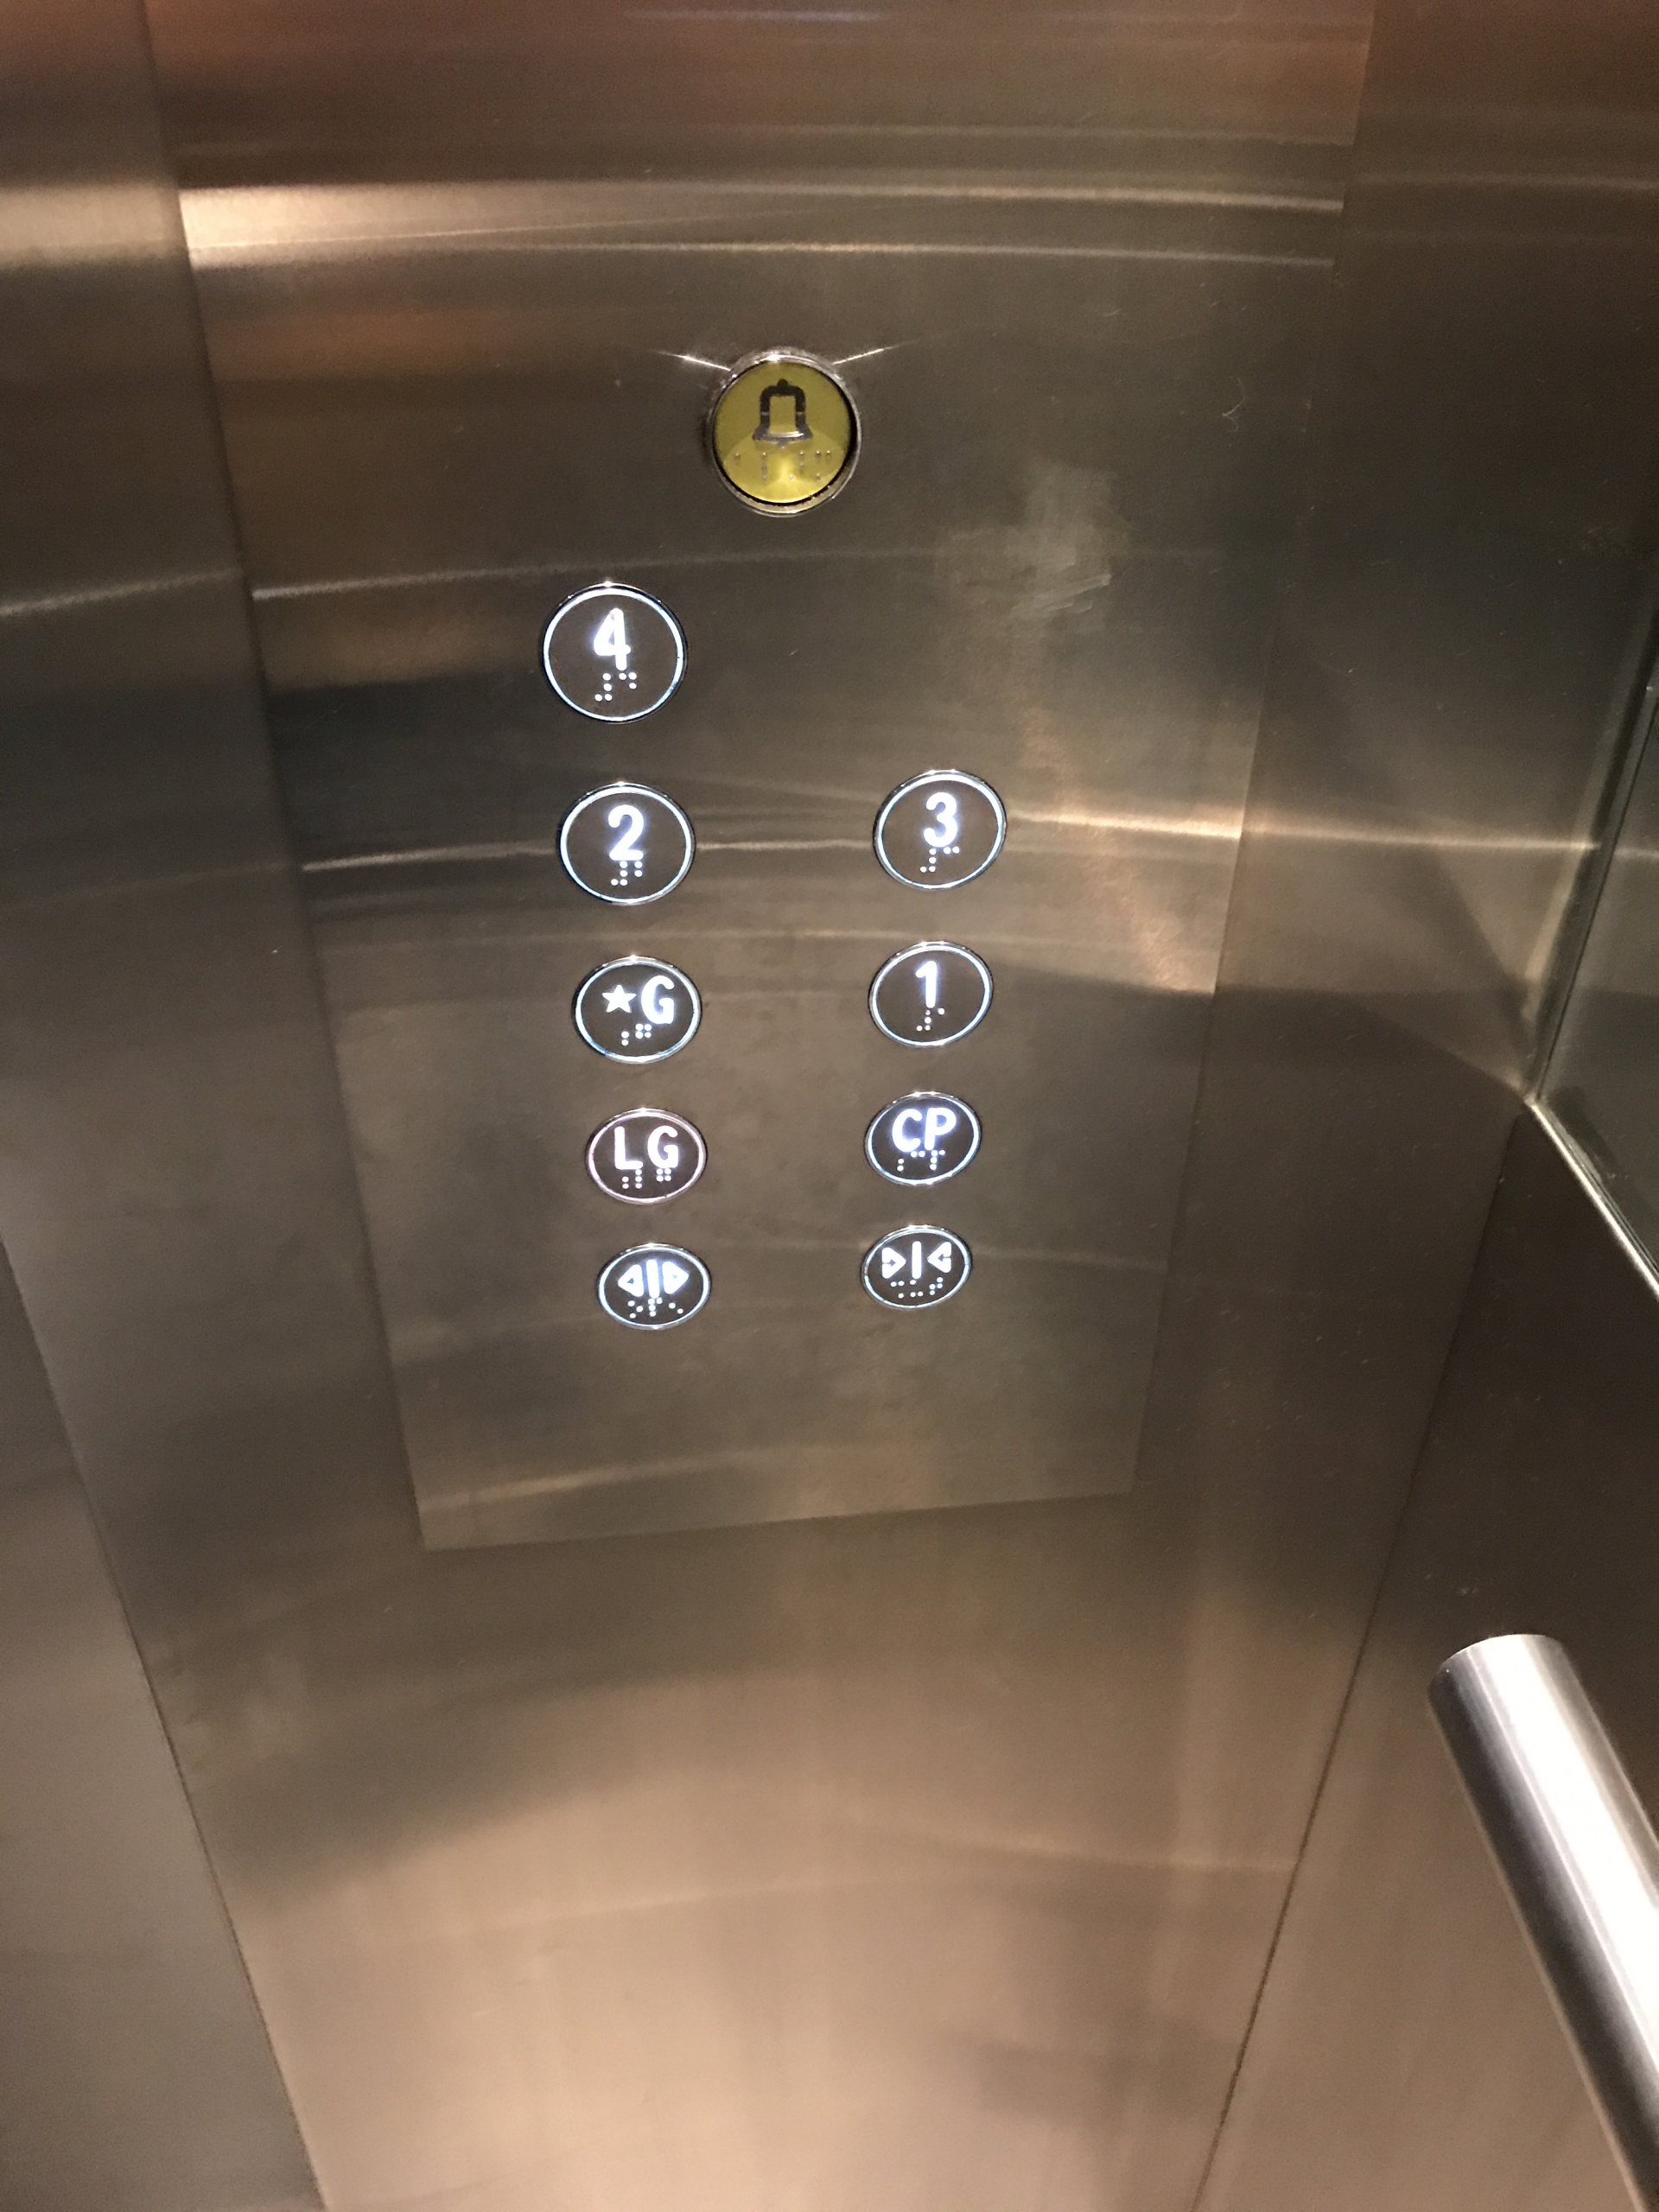1: (864, 937, 997, 1050)
2: (556, 777, 695, 906)
3: (870, 766, 1011, 890)
4: (537, 578, 688, 725)
CP: (863, 1089, 985, 1190)
LG: (582, 1104, 711, 1209)
alarm: (702, 343, 866, 523)
close: (857, 1221, 976, 1315)
open: (596, 1240, 713, 1332)
sG: (568, 951, 704, 1066)
